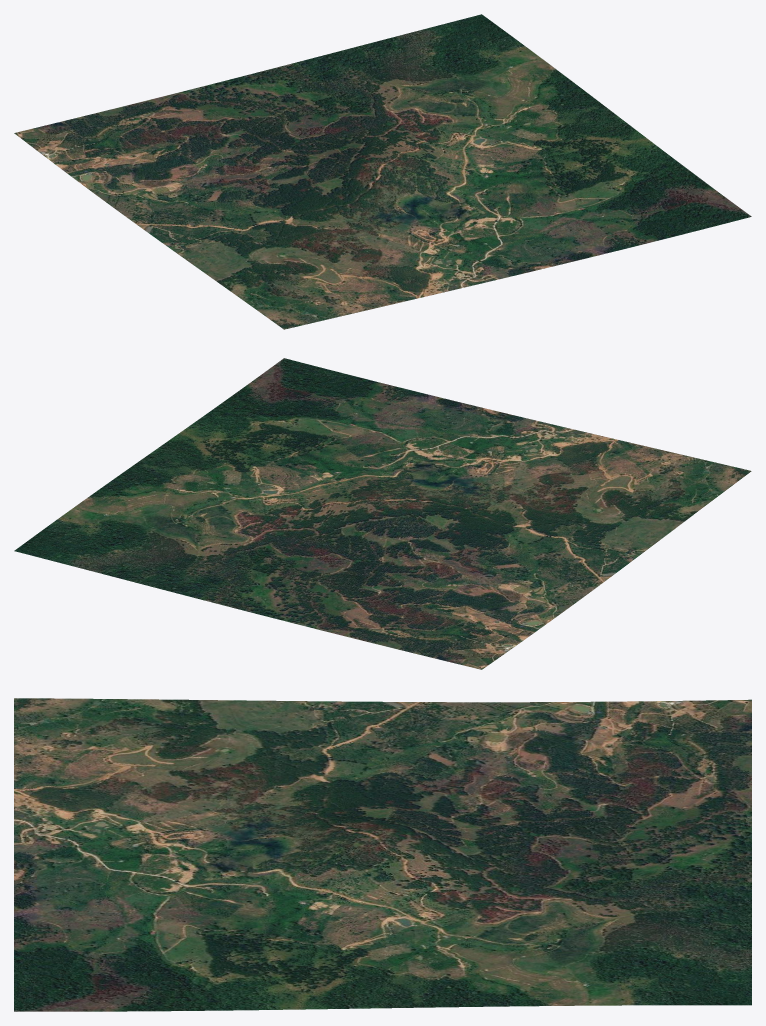
Rendered from terrain_real_T_W04_S03.glb.
3 views of the same model, one above another, from view 1: azimuth 30°, elevation 25°; view 2: azimuth 150°, elevation 25°; view 3: azimuth 270°, elevation 25° (orthographic). The views are drawn at different scales.
Parts seen in each view (by area): view 1: Terrain_Real_DEM_T_W04_S03; view 2: Terrain_Real_DEM_T_W04_S03; view 3: Terrain_Real_DEM_T_W04_S03.
Part boxes in pixels (x1,y1,x2,y2): Terrain_Real_DEM_T_W04_S03: (14, 14, 751, 329); Terrain_Real_DEM_T_W04_S03: (14, 358, 751, 669); Terrain_Real_DEM_T_W04_S03: (14, 698, 751, 1011).
Bounding box in the file's own units: 2000 × 57.9 × 2000.
1 material, 1 textured.
